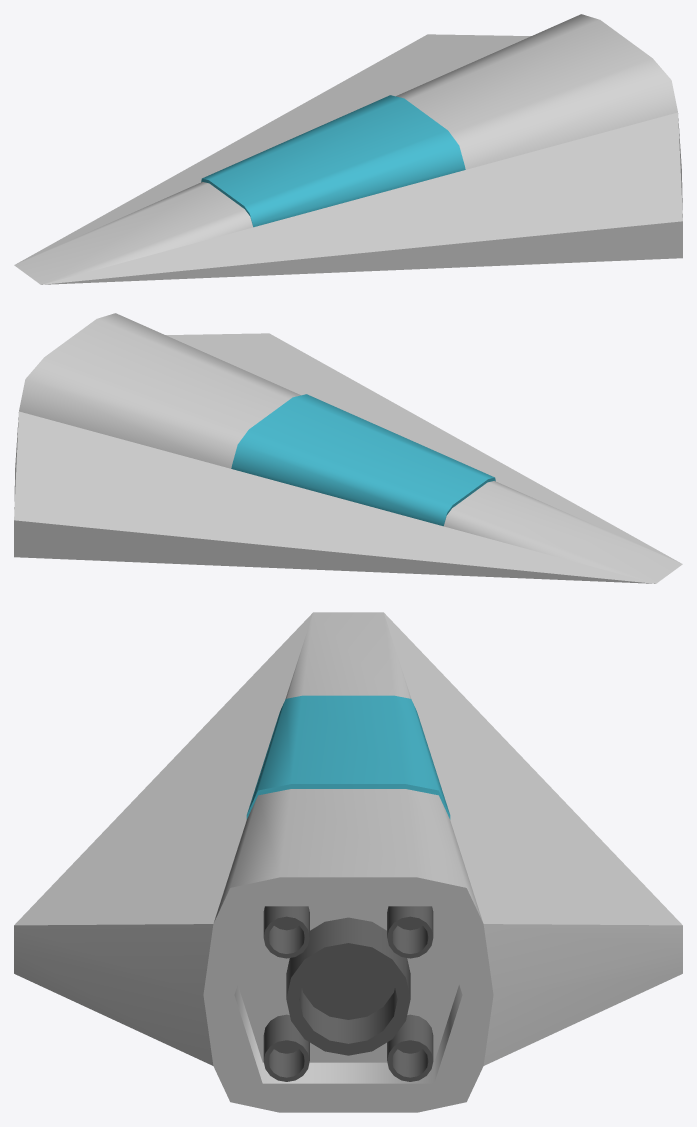
The model's file is Starship.fbx.
3 renders of one model, top to bottom at view 1: azimuth 30°, elevation 25°; view 2: azimuth 150°, elevation 25°; view 3: azimuth 270°, elevation 25°, orthographic. The views are drawn at different scales.
Parts seen in each view (by area): view 1: Cube; view 2: Cube; view 3: Cube.
Boxes of the visible parts, x1,y1,x2,y2 form: Cube: (14,14,682,284); Cube: (14,313,682,583); Cube: (14,612,682,1112).
Bounding box in the file's own units: 678 × 192 × 495.
